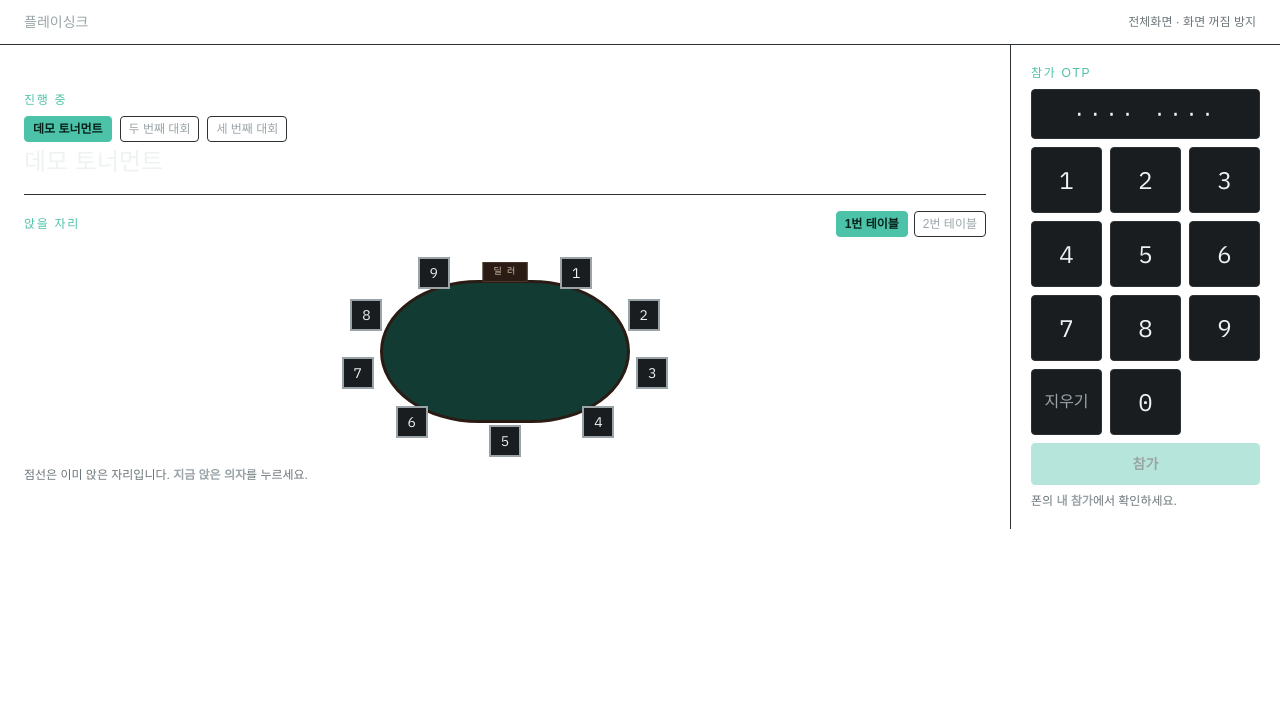
it: WaitingClient — 대회 전환 › 빠르게 두 번 전환하면 먼저 고른 대회의 늦은 응답이 화면을 덮지 않는다
This screenshot has width=1280, height=720.
Click the button with test id "pick-tournament-t2": point(160, 128) [120,116,200,142]
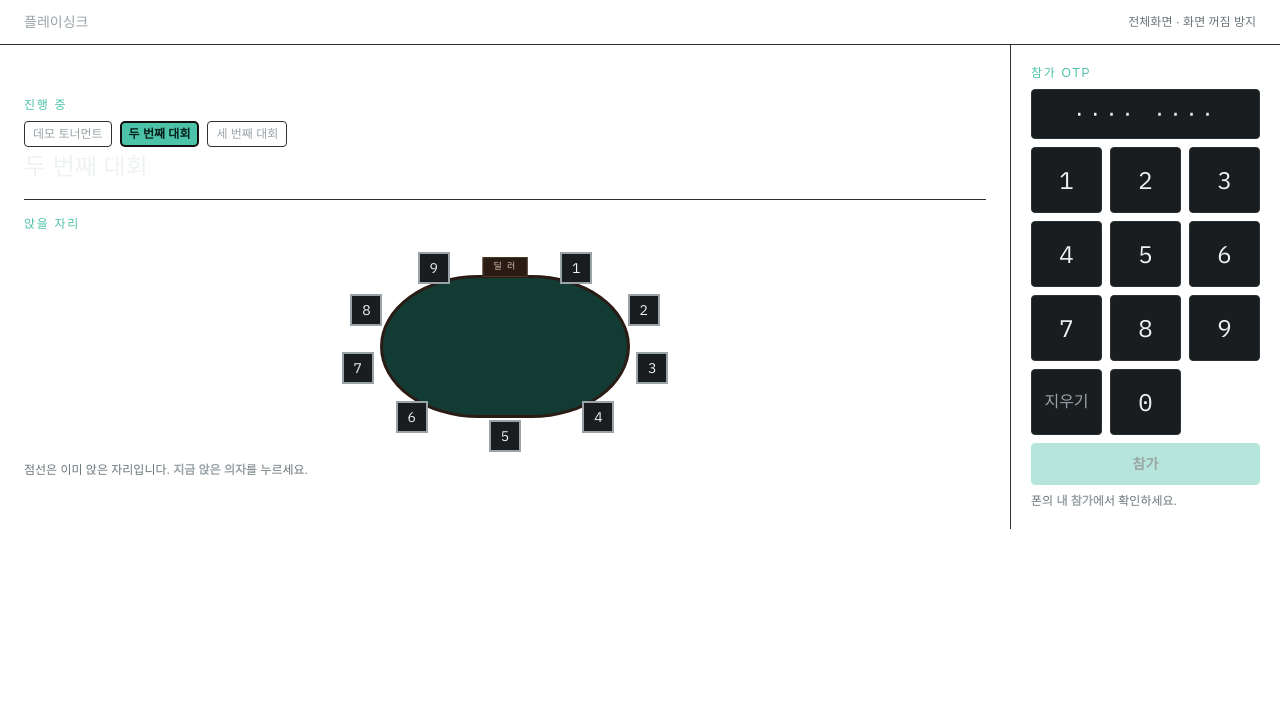
Click the button with test id "pick-tournament-t3": point(247, 134) [208,120,287,146]
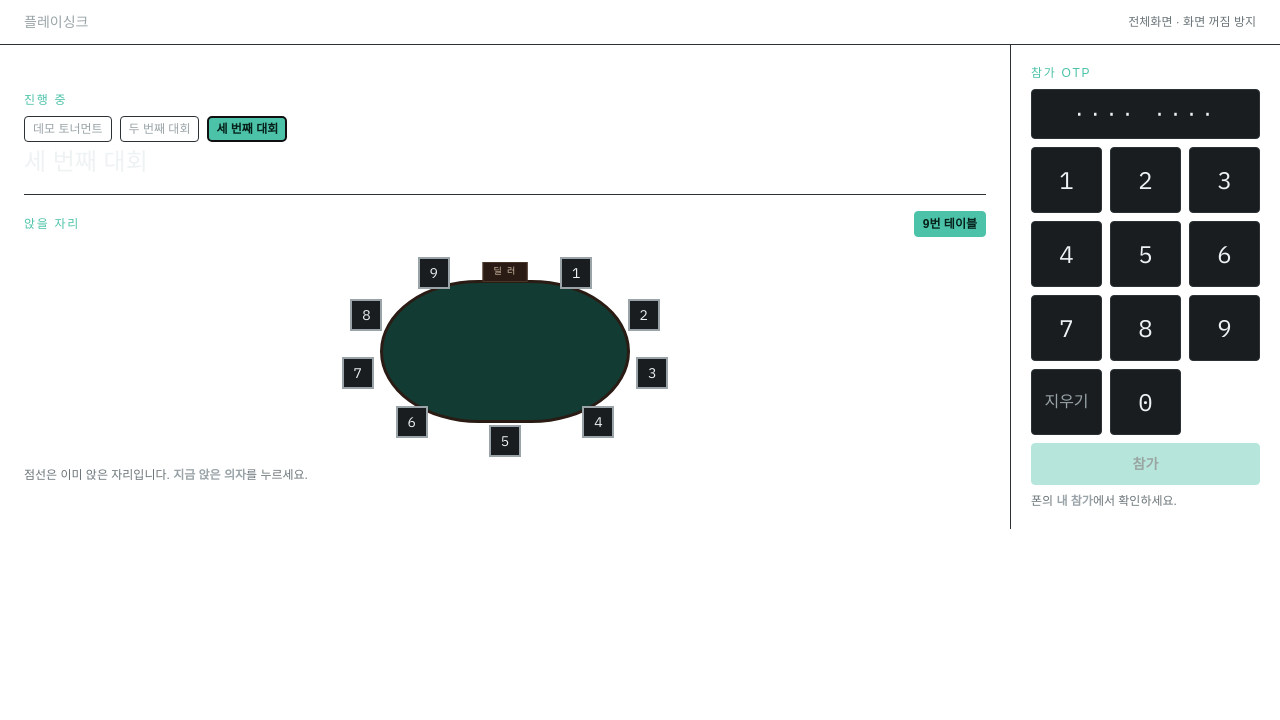
Result: the button with test id "pick-table-tb-t3" is shown at [914,210,986,236]
